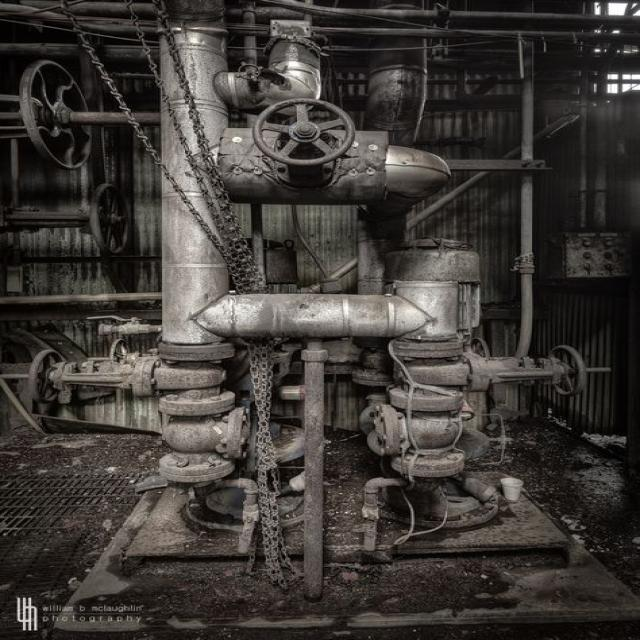Wheel Handle Valve Threaded: (222, 94, 390, 203)
